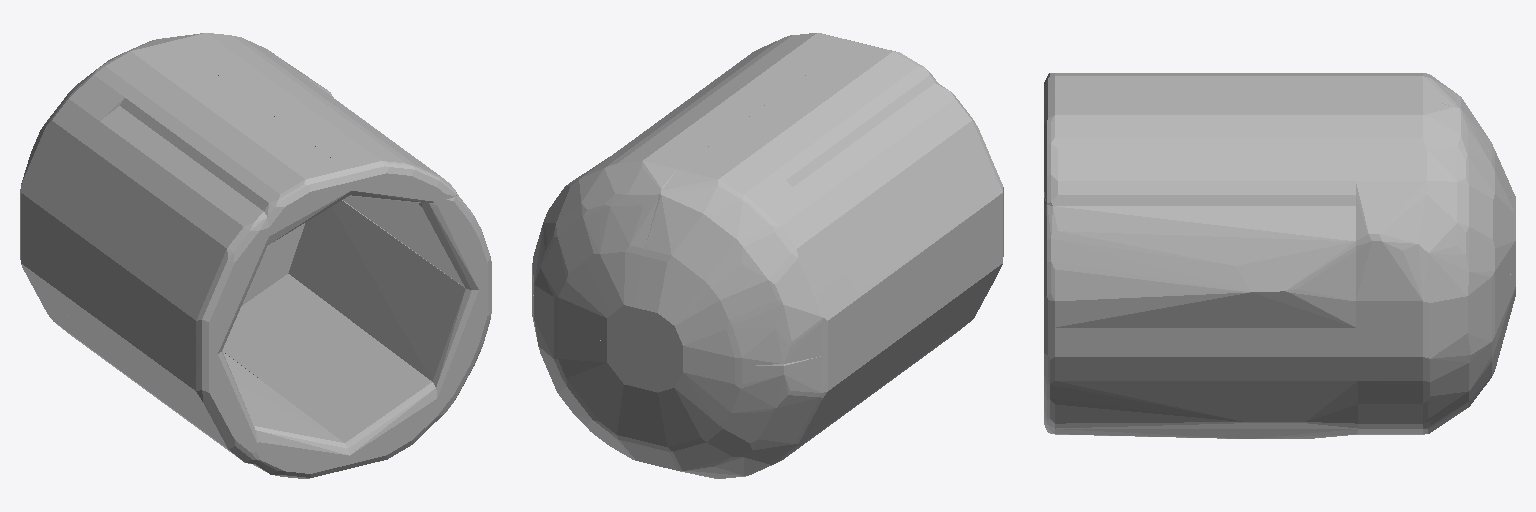
URDF robot description (root):
<robot name="root">
  <link name="link_coacd_convex_piece_0">
    <inertial>
      <origin xyz="0 0 0" rpy="0 0 0"/>
      <mass value="6.88E-02"/>
      <inertia ixx="1.93E-02" ixy="-7.32E-03" ixz="-3.42E-03" iyy="1.05E-02" iyz="-7.41E-03" izz="1.91E-02"/>
    </inertial>
    <visual>
      <origin xyz="0 0 0" rpy="0 0 0"/>
      <geometry>
        <mesh filename="coacd_convex_piece_0.obj" scale="1.0000E+00 1.0000E+00 1.0000E+00"/>
      </geometry>
      <material name="">
        <color rgba="7.50E-01 7.50E-01 7.50E-01 1"/>
      </material>
    </visual>
    <collision>
      <origin xyz="0 0 0" rpy="0 0 0"/>
      <geometry>
        <mesh filename="coacd_convex_piece_0.obj" scale="1.0000E+00 1.0000E+00 1.0000E+00"/>
      </geometry>
    </collision>
  </link>
  <link name="link_coacd_convex_piece_1">
    <inertial>
      <origin xyz="0 0 0" rpy="0 0 0"/>
      <mass value="7.09E-02"/>
      <inertia ixx="2.03E-02" ixy="7.70E-03" ixz="3.79E-03" iyy="1.15E-02" iyz="-7.76E-03" izz="2.07E-02"/>
    </inertial>
    <visual>
      <origin xyz="0 0 0" rpy="0 0 0"/>
      <geometry>
        <mesh filename="coacd_convex_piece_1.obj" scale="1.0000E+00 1.0000E+00 1.0000E+00"/>
      </geometry>
      <material name="">
        <color rgba="7.50E-01 7.50E-01 7.50E-01 1"/>
      </material>
    </visual>
    <collision>
      <origin xyz="0 0 0" rpy="0 0 0"/>
      <geometry>
        <mesh filename="coacd_convex_piece_1.obj" scale="1.0000E+00 1.0000E+00 1.0000E+00"/>
      </geometry>
    </collision>
  </link>
  <joint name="link_coacd_convex_piece_1_joint" type="fixed">
    <origin xyz="0 0 0" rpy="0 0 0"/>
    <parent link="link_coacd_convex_piece_0"/>
    <child link="link_coacd_convex_piece_1"/>
  </joint>
  <link name="link_coacd_convex_piece_2">
    <inertial>
      <origin xyz="0 0 0" rpy="0 0 0"/>
      <mass value="7.08E-02"/>
      <inertia ixx="2.03E-02" ixy="-7.44E-03" ixz="3.29E-03" iyy="1.05E-02" iyz="7.41E-03" izz="2.00E-02"/>
    </inertial>
    <visual>
      <origin xyz="0 0 0" rpy="0 0 0"/>
      <geometry>
        <mesh filename="coacd_convex_piece_2.obj" scale="1.0000E+00 1.0000E+00 1.0000E+00"/>
      </geometry>
      <material name="">
        <color rgba="7.50E-01 7.50E-01 7.50E-01 1"/>
      </material>
    </visual>
    <collision>
      <origin xyz="0 0 0" rpy="0 0 0"/>
      <geometry>
        <mesh filename="coacd_convex_piece_2.obj" scale="1.0000E+00 1.0000E+00 1.0000E+00"/>
      </geometry>
    </collision>
  </link>
  <joint name="link_coacd_convex_piece_2_joint" type="fixed">
    <origin xyz="0 0 0" rpy="0 0 0"/>
    <parent link="link_coacd_convex_piece_1"/>
    <child link="link_coacd_convex_piece_2"/>
  </joint>
  <link name="link_coacd_convex_piece_3">
    <inertial>
      <origin xyz="0 0 0" rpy="0 0 0"/>
      <mass value="7.26E-02"/>
      <inertia ixx="2.08E-02" ixy="8.08E-03" ixz="-3.82E-03" iyy="1.18E-02" iyz="7.58E-03" izz="2.15E-02"/>
    </inertial>
    <visual>
      <origin xyz="0 0 0" rpy="0 0 0"/>
      <geometry>
        <mesh filename="coacd_convex_piece_3.obj" scale="1.0000E+00 1.0000E+00 1.0000E+00"/>
      </geometry>
      <material name="">
        <color rgba="7.50E-01 7.50E-01 7.50E-01 1"/>
      </material>
    </visual>
    <collision>
      <origin xyz="0 0 0" rpy="0 0 0"/>
      <geometry>
        <mesh filename="coacd_convex_piece_3.obj" scale="1.0000E+00 1.0000E+00 1.0000E+00"/>
      </geometry>
    </collision>
  </link>
  <joint name="link_coacd_convex_piece_3_joint" type="fixed">
    <origin xyz="0 0 0" rpy="0 0 0"/>
    <parent link="link_coacd_convex_piece_2"/>
    <child link="link_coacd_convex_piece_3"/>
  </joint>
  <link name="link_coacd_convex_piece_4">
    <inertial>
      <origin xyz="0 0 0" rpy="0 0 0"/>
      <mass value="3.29E-02"/>
      <inertia ixx="1.17E-02" ixy="1.53E-03" ixz="-2.89E-03" iyy="9.17E-03" iyz="4.02E-03" izz="5.72E-03"/>
    </inertial>
    <visual>
      <origin xyz="0 0 0" rpy="0 0 0"/>
      <geometry>
        <mesh filename="coacd_convex_piece_4.obj" scale="1.0000E+00 1.0000E+00 1.0000E+00"/>
      </geometry>
      <material name="">
        <color rgba="7.50E-01 7.50E-01 7.50E-01 1"/>
      </material>
    </visual>
    <collision>
      <origin xyz="0 0 0" rpy="0 0 0"/>
      <geometry>
        <mesh filename="coacd_convex_piece_4.obj" scale="1.0000E+00 1.0000E+00 1.0000E+00"/>
      </geometry>
    </collision>
  </link>
  <joint name="link_coacd_convex_piece_4_joint" type="fixed">
    <origin xyz="0 0 0" rpy="0 0 0"/>
    <parent link="link_coacd_convex_piece_3"/>
    <child link="link_coacd_convex_piece_4"/>
  </joint>
  <link name="link_coacd_convex_piece_5">
    <inertial>
      <origin xyz="0 0 0" rpy="0 0 0"/>
      <mass value="4.23E-02"/>
      <inertia ixx="7.18E-03" ixy="4.60E-03" ixz="-3.75E-03" iyy="1.12E-02" iyz="2.06E-03" izz="1.40E-02"/>
    </inertial>
    <visual>
      <origin xyz="0 0 0" rpy="0 0 0"/>
      <geometry>
        <mesh filename="coacd_convex_piece_5.obj" scale="1.0000E+00 1.0000E+00 1.0000E+00"/>
      </geometry>
      <material name="">
        <color rgba="7.50E-01 7.50E-01 7.50E-01 1"/>
      </material>
    </visual>
    <collision>
      <origin xyz="0 0 0" rpy="0 0 0"/>
      <geometry>
        <mesh filename="coacd_convex_piece_5.obj" scale="1.0000E+00 1.0000E+00 1.0000E+00"/>
      </geometry>
    </collision>
  </link>
  <joint name="link_coacd_convex_piece_5_joint" type="fixed">
    <origin xyz="0 0 0" rpy="0 0 0"/>
    <parent link="link_coacd_convex_piece_4"/>
    <child link="link_coacd_convex_piece_5"/>
  </joint>
  <link name="link_coacd_convex_piece_6">
    <inertial>
      <origin xyz="0 0 0" rpy="0 0 0"/>
      <mass value="3.23E-02"/>
      <inertia ixx="1.15E-02" ixy="-1.56E-03" ixz="2.72E-03" iyy="8.88E-03" iyz="3.86E-03" izz="5.27E-03"/>
    </inertial>
    <visual>
      <origin xyz="0 0 0" rpy="0 0 0"/>
      <geometry>
        <mesh filename="coacd_convex_piece_6.obj" scale="1.0000E+00 1.0000E+00 1.0000E+00"/>
      </geometry>
      <material name="">
        <color rgba="7.50E-01 7.50E-01 7.50E-01 1"/>
      </material>
    </visual>
    <collision>
      <origin xyz="0 0 0" rpy="0 0 0"/>
      <geometry>
        <mesh filename="coacd_convex_piece_6.obj" scale="1.0000E+00 1.0000E+00 1.0000E+00"/>
      </geometry>
    </collision>
  </link>
  <joint name="link_coacd_convex_piece_6_joint" type="fixed">
    <origin xyz="0 0 0" rpy="0 0 0"/>
    <parent link="link_coacd_convex_piece_5"/>
    <child link="link_coacd_convex_piece_6"/>
  </joint>
  <link name="link_coacd_convex_piece_7">
    <inertial>
      <origin xyz="0 0 0" rpy="0 0 0"/>
      <mass value="4.44E-02"/>
      <inertia ixx="8.61E-03" ixy="-5.48E-03" ixz="4.61E-03" iyy="1.32E-02" iyz="2.57E-03" izz="1.57E-02"/>
    </inertial>
    <visual>
      <origin xyz="0 0 0" rpy="0 0 0"/>
      <geometry>
        <mesh filename="coacd_convex_piece_7.obj" scale="1.0000E+00 1.0000E+00 1.0000E+00"/>
      </geometry>
      <material name="">
        <color rgba="7.50E-01 7.50E-01 7.50E-01 1"/>
      </material>
    </visual>
    <collision>
      <origin xyz="0 0 0" rpy="0 0 0"/>
      <geometry>
        <mesh filename="coacd_convex_piece_7.obj" scale="1.0000E+00 1.0000E+00 1.0000E+00"/>
      </geometry>
    </collision>
  </link>
  <joint name="link_coacd_convex_piece_7_joint" type="fixed">
    <origin xyz="0 0 0" rpy="0 0 0"/>
    <parent link="link_coacd_convex_piece_6"/>
    <child link="link_coacd_convex_piece_7"/>
  </joint>
  <link name="link_coacd_convex_piece_8">
    <inertial>
      <origin xyz="0 0 0" rpy="0 0 0"/>
      <mass value="4.04E-02"/>
      <inertia ixx="7.40E-03" ixy="4.49E-03" ixz="3.74E-03" iyy="1.09E-02" iyz="-2.23E-03" izz="1.34E-02"/>
    </inertial>
    <visual>
      <origin xyz="0 0 0" rpy="0 0 0"/>
      <geometry>
        <mesh filename="coacd_convex_piece_8.obj" scale="1.0000E+00 1.0000E+00 1.0000E+00"/>
      </geometry>
      <material name="">
        <color rgba="7.50E-01 7.50E-01 7.50E-01 1"/>
      </material>
    </visual>
    <collision>
      <origin xyz="0 0 0" rpy="0 0 0"/>
      <geometry>
        <mesh filename="coacd_convex_piece_8.obj" scale="1.0000E+00 1.0000E+00 1.0000E+00"/>
      </geometry>
    </collision>
  </link>
  <joint name="link_coacd_convex_piece_8_joint" type="fixed">
    <origin xyz="0 0 0" rpy="0 0 0"/>
    <parent link="link_coacd_convex_piece_7"/>
    <child link="link_coacd_convex_piece_8"/>
  </joint>
  <link name="link_coacd_convex_piece_9">
    <inertial>
      <origin xyz="0 0 0" rpy="0 0 0"/>
      <mass value="3.72E-02"/>
      <inertia ixx="1.28E-02" ixy="1.51E-03" ixz="2.97E-03" iyy="9.81E-03" iyz="-4.42E-03" izz="6.01E-03"/>
    </inertial>
    <visual>
      <origin xyz="0 0 0" rpy="0 0 0"/>
      <geometry>
        <mesh filename="coacd_convex_piece_9.obj" scale="1.0000E+00 1.0000E+00 1.0000E+00"/>
      </geometry>
      <material name="">
        <color rgba="7.50E-01 7.50E-01 7.50E-01 1"/>
      </material>
    </visual>
    <collision>
      <origin xyz="0 0 0" rpy="0 0 0"/>
      <geometry>
        <mesh filename="coacd_convex_piece_9.obj" scale="1.0000E+00 1.0000E+00 1.0000E+00"/>
      </geometry>
    </collision>
  </link>
  <joint name="link_coacd_convex_piece_9_joint" type="fixed">
    <origin xyz="0 0 0" rpy="0 0 0"/>
    <parent link="link_coacd_convex_piece_8"/>
    <child link="link_coacd_convex_piece_9"/>
  </joint>
  <link name="link_coacd_convex_piece_10">
    <inertial>
      <origin xyz="0 0 0" rpy="0 0 0"/>
      <mass value="3.95E-02"/>
      <inertia ixx="1.35E-02" ixy="-2.19E-03" ixz="-3.69E-03" iyy="1.08E-02" iyz="-4.65E-03" izz="6.94E-03"/>
    </inertial>
    <visual>
      <origin xyz="0 0 0" rpy="0 0 0"/>
      <geometry>
        <mesh filename="coacd_convex_piece_10.obj" scale="1.0000E+00 1.0000E+00 1.0000E+00"/>
      </geometry>
      <material name="">
        <color rgba="7.50E-01 7.50E-01 7.50E-01 1"/>
      </material>
    </visual>
    <collision>
      <origin xyz="0 0 0" rpy="0 0 0"/>
      <geometry>
        <mesh filename="coacd_convex_piece_10.obj" scale="1.0000E+00 1.0000E+00 1.0000E+00"/>
      </geometry>
    </collision>
  </link>
  <joint name="link_coacd_convex_piece_10_joint" type="fixed">
    <origin xyz="0 0 0" rpy="0 0 0"/>
    <parent link="link_coacd_convex_piece_9"/>
    <child link="link_coacd_convex_piece_10"/>
  </joint>
  <link name="link_coacd_convex_piece_11">
    <inertial>
      <origin xyz="0 0 0" rpy="0 0 0"/>
      <mass value="3.81E-02"/>
      <inertia ixx="6.89E-03" ixy="-4.90E-03" ixz="-3.68E-03" iyy="1.16E-02" iyz="-2.06E-03" izz="1.41E-02"/>
    </inertial>
    <visual>
      <origin xyz="0 0 0" rpy="0 0 0"/>
      <geometry>
        <mesh filename="coacd_convex_piece_11.obj" scale="1.0000E+00 1.0000E+00 1.0000E+00"/>
      </geometry>
      <material name="">
        <color rgba="7.50E-01 7.50E-01 7.50E-01 1"/>
      </material>
    </visual>
    <collision>
      <origin xyz="0 0 0" rpy="0 0 0"/>
      <geometry>
        <mesh filename="coacd_convex_piece_11.obj" scale="1.0000E+00 1.0000E+00 1.0000E+00"/>
      </geometry>
    </collision>
  </link>
  <joint name="link_coacd_convex_piece_11_joint" type="fixed">
    <origin xyz="0 0 0" rpy="0 0 0"/>
    <parent link="link_coacd_convex_piece_10"/>
    <child link="link_coacd_convex_piece_11"/>
  </joint>
</robot>

--- What the picture shows (computed from the rendered views, not written in the file) ---
The picture shows the robot from 3 angles, left to right: view 1: azimuth 30°, elevation 25°; view 2: azimuth 150°, elevation 25°; view 3: azimuth 270°, elevation 25°; orthographic projection.
Model root with 12 links and 11 joints (11 fixed), rooted at link_coacd_convex_piece_0, posed all joints at 0.
Links seen in each view (by area): view 1: link_coacd_convex_piece_7, link_coacd_convex_piece_9, link_coacd_convex_piece_8, link_coacd_convex_piece_6, link_coacd_convex_piece_11, link_coacd_convex_piece_4, link_coacd_convex_piece_1, link_coacd_convex_piece_5, link_coacd_convex_piece_10, link_coacd_convex_piece_3, link_coacd_convex_piece_0, link_coacd_convex_piece_2; view 2: link_coacd_convex_piece_1, link_coacd_convex_piece_7, link_coacd_convex_piece_3, link_coacd_convex_piece_0, link_coacd_convex_piece_6, link_coacd_convex_piece_11, link_coacd_convex_piece_2, link_coacd_convex_piece_4; view 3: link_coacd_convex_piece_5, link_coacd_convex_piece_4, link_coacd_convex_piece_0, link_coacd_convex_piece_8, link_coacd_convex_piece_2, link_coacd_convex_piece_6, link_coacd_convex_piece_1, link_coacd_convex_piece_9.
Boxes of the visible links, x1=… form: link_coacd_convex_piece_7: x1=52, y1=106, x2=268, y2=355; link_coacd_convex_piece_9: x1=222, y1=274, x2=436, y2=468; link_coacd_convex_piece_8: x1=288, y1=200, x2=491, y2=421; link_coacd_convex_piece_6: x1=120, y1=64, x2=351, y2=244; link_coacd_convex_piece_11: x1=52, y1=249, x2=256, y2=463; link_coacd_convex_piece_4: x1=204, y1=56, x2=456, y2=202; link_coacd_convex_piece_1: x1=20, y1=40, x2=201, y2=248; link_coacd_convex_piece_5: x1=343, y1=194, x2=491, y2=289; link_coacd_convex_piece_10: x1=223, y1=352, x2=349, y2=478; link_coacd_convex_piece_3: x1=20, y1=223, x2=94, y2=352; link_coacd_convex_piece_0: x1=156, y1=33, x2=333, y2=97; link_coacd_convex_piece_2: x1=242, y1=223, x2=304, y2=305; link_coacd_convex_piece_1: x1=633, y1=147, x2=858, y2=364; link_coacd_convex_piece_7: x1=793, y1=83, x2=1003, y2=330; link_coacd_convex_piece_3: x1=635, y1=332, x2=858, y2=478; link_coacd_convex_piece_0: x1=532, y1=137, x2=708, y2=349; link_coacd_convex_piece_6: x1=709, y1=41, x2=937, y2=186; link_coacd_convex_piece_11: x1=813, y1=223, x2=1003, y2=437; link_coacd_convex_piece_2: x1=532, y1=286, x2=655, y2=465; link_coacd_convex_piece_4: x1=614, y1=33, x2=854, y2=153; link_coacd_convex_piece_5: x1=1044, y1=198, x2=1355, y2=327; link_coacd_convex_piece_4: x1=1044, y1=97, x2=1355, y2=205; link_coacd_convex_piece_0: x1=1356, y1=97, x2=1515, y2=327; link_coacd_convex_piece_8: x1=1044, y1=323, x2=1357, y2=428; link_coacd_convex_piece_2: x1=1358, y1=267, x2=1515, y2=434; link_coacd_convex_piece_6: x1=1044, y1=73, x2=1357, y2=106; link_coacd_convex_piece_1: x1=1358, y1=73, x2=1515, y2=208; link_coacd_convex_piece_9: x1=1044, y1=419, x2=1357, y2=438.
Bounding box of the posed robot: 1.21 × 1.55 × 1.15 m (x, y, z).
Meshes: 12 distinct files referenced, 12 mesh visuals loaded (12 OBJ).